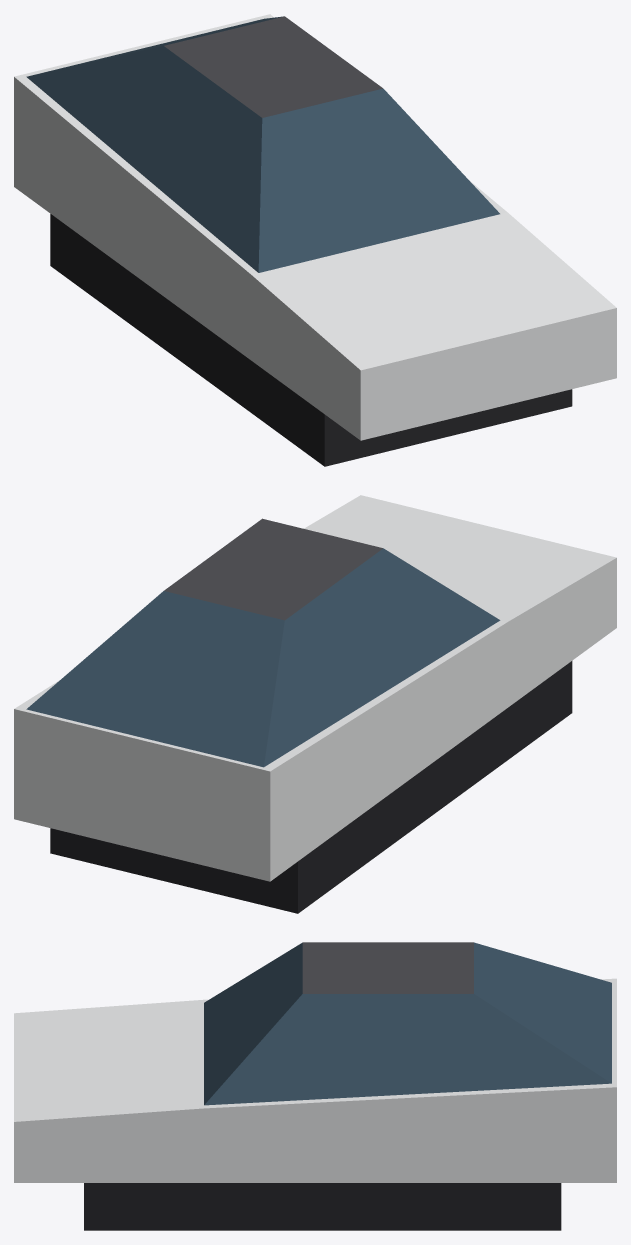
The model's file is 6_far.fbx.
3 renders of one model, top to bottom at view 1: azimuth 30°, elevation 25°; view 2: azimuth 150°, elevation 25°; view 3: azimuth 270°, elevation 25°, orthographic. The views are drawn at different scales.
Parts seen in each view (by area): view 1: 10_6_far; view 2: 10_6_far; view 3: 10_6_far.
Boxes of the visible parts, x1,y1,x2,y2 form: 10_6_far: (14,14,616,466); 10_6_far: (14,495,616,913); 10_6_far: (14,942,616,1230).
Bounding box in the file's own units: 1.8 × 1.62 × 4.22.
